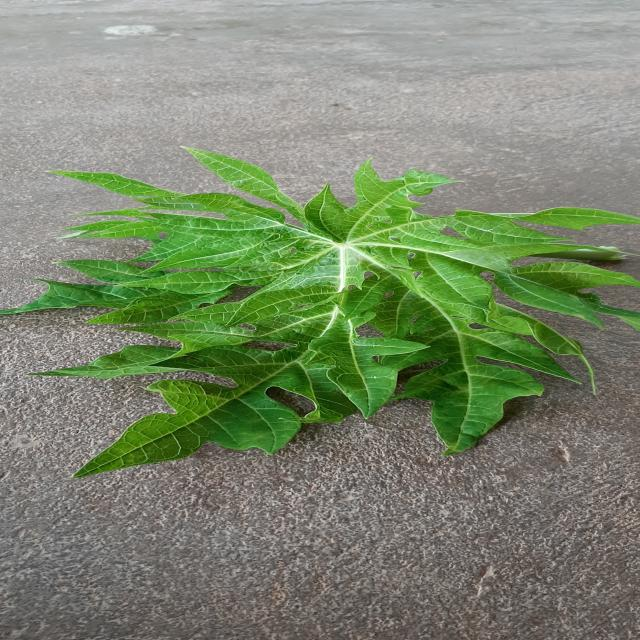papaya: (5, 148, 637, 476)
